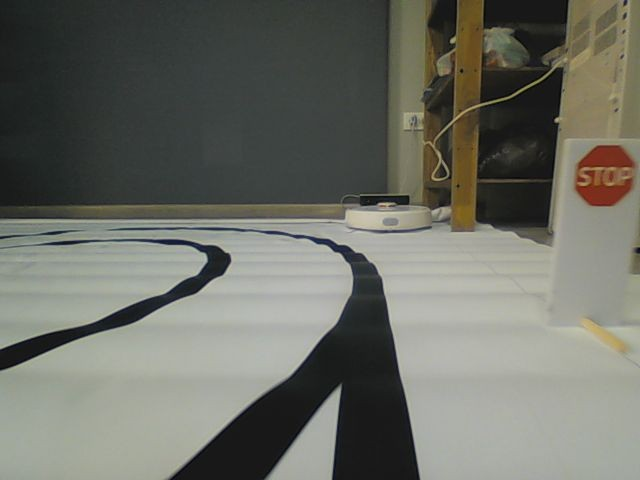Stop: (572, 143, 637, 209)
